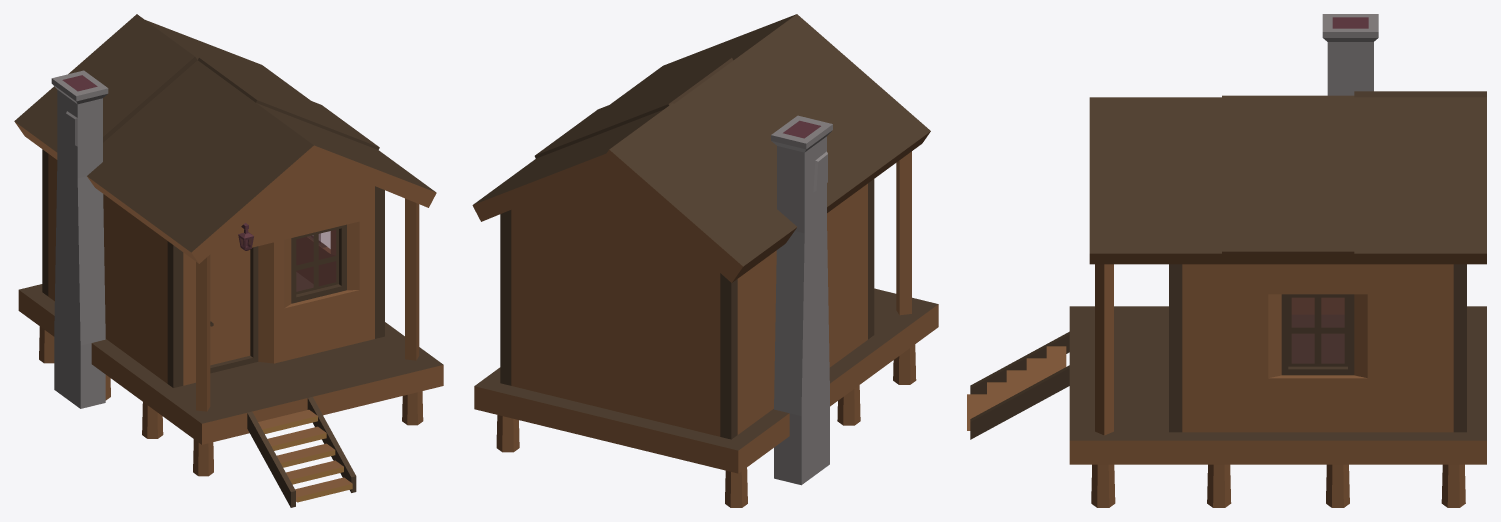
The model's file is building-cabin-small.fbx.
3 renders of one model, left to right at view 1: azimuth 30°, elevation 25°; view 2: azimuth 150°, elevation 25°; view 3: azimuth 270°, elevation 25°, orthographic. The views are drawn at different scales.
Parts seen in each view (by area): view 1: building-cabin-small; view 2: building-cabin-small; view 3: building-cabin-small.
Part boxes in pixels (x1,y1,x2,y2): building-cabin-small: (14,14,443,507); building-cabin-small: (472,14,938,507); building-cabin-small: (967,14,1486,507).
Size of the model in its own units: 4.38 by 5.05 by 6.67.
